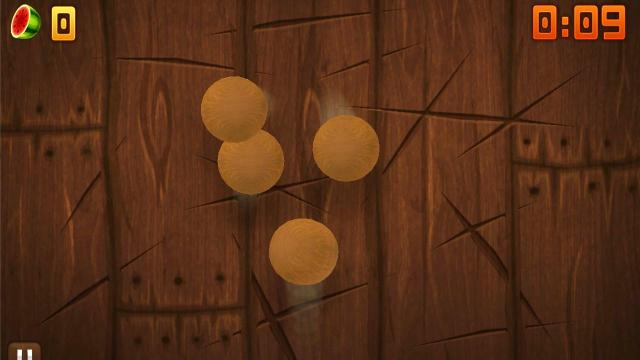fruit: (268, 217, 339, 285), (313, 114, 382, 182), (200, 75, 268, 142), (217, 129, 285, 195)
ignore: (9, 3, 43, 41)
